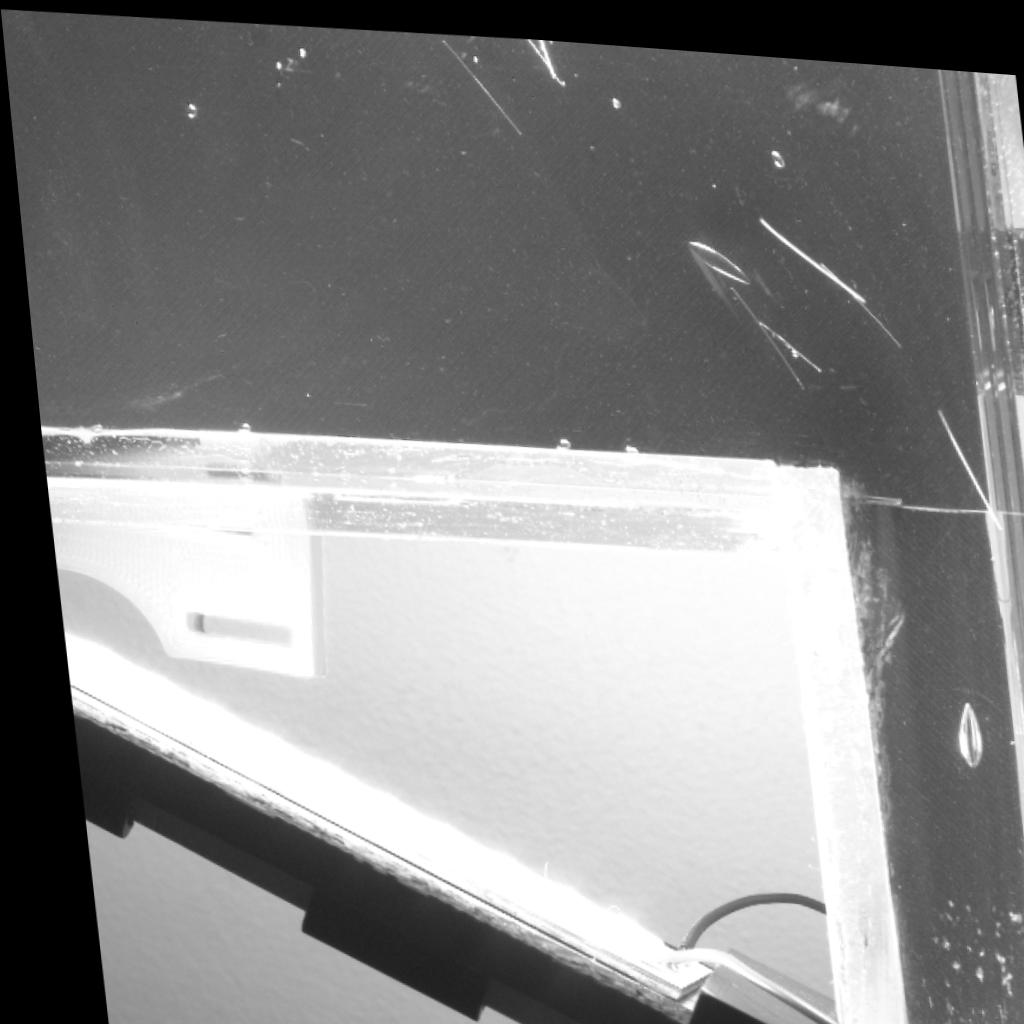Fiber: (928, 390, 997, 528), (754, 200, 859, 287), (724, 275, 803, 382), (438, 33, 522, 133), (808, 243, 896, 334), (744, 302, 816, 365), (525, 31, 564, 79), (539, 31, 554, 70)
